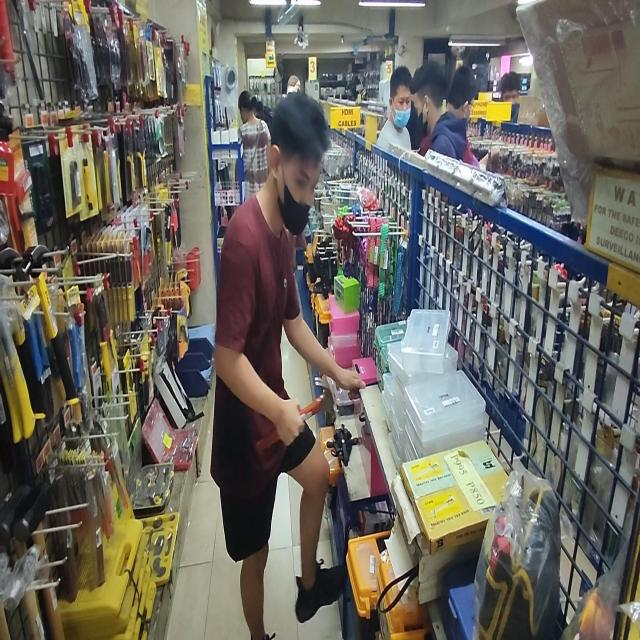hammer: (256, 376, 336, 456)
